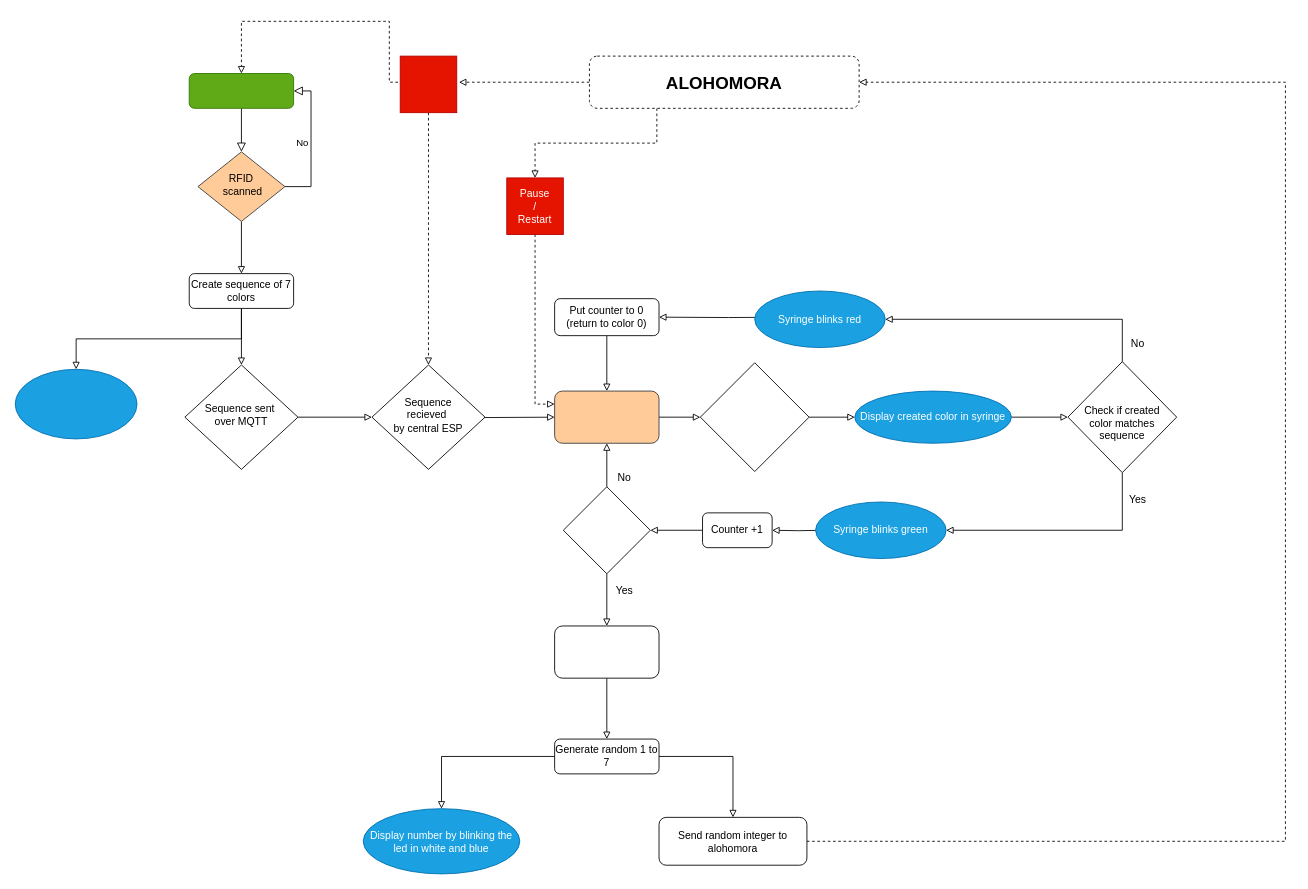
The diagram is 1308 pixels wide and 889 high, and some of its shapes have lost their labels. Here are the shapes that lost their labels. From the top down, the centre of each, then its label:
At [241,90]: "Start".
At [428,84]: "Reset".
At [75,403]: "Show sequence by lighting up medicine jars".
At [606,416]: "Insert color in colormaker".
At [754,417]: "Check colors of objects by pressing button".
At [606,530]: "If counter =7".
At [606,651]: "Boolean succeed = true".
